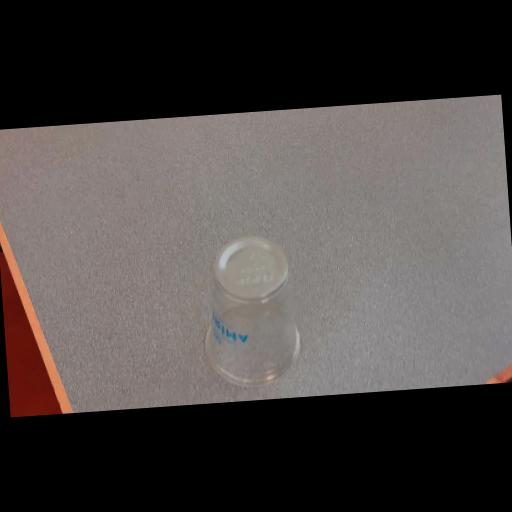lp_plastic_cup: (193, 228, 311, 397)
